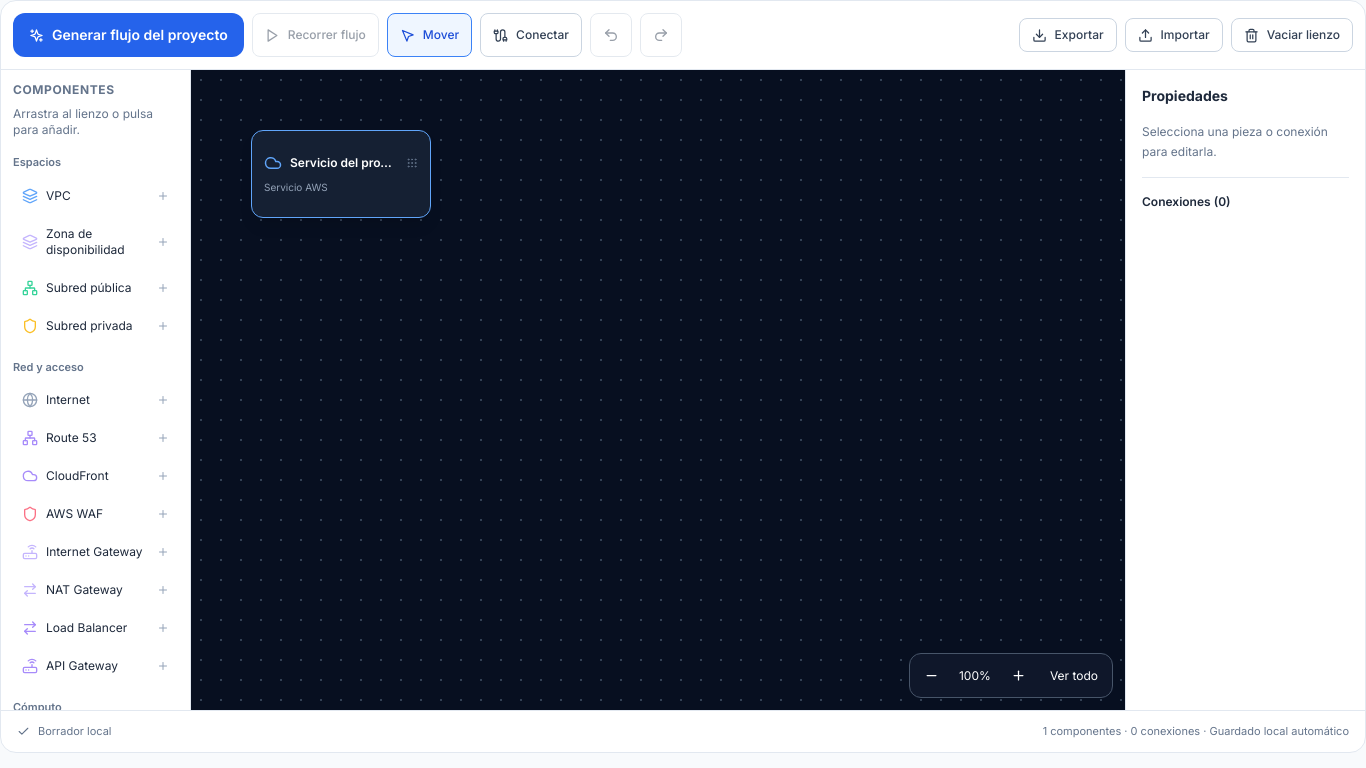
Test: botones del flujo › conserva el lienzo cuando falla Gemini y muestra el error
The image size is (1366, 768).
Click the button "Generar flujo del proyecto" at (128, 35), box [13,13,244,57]
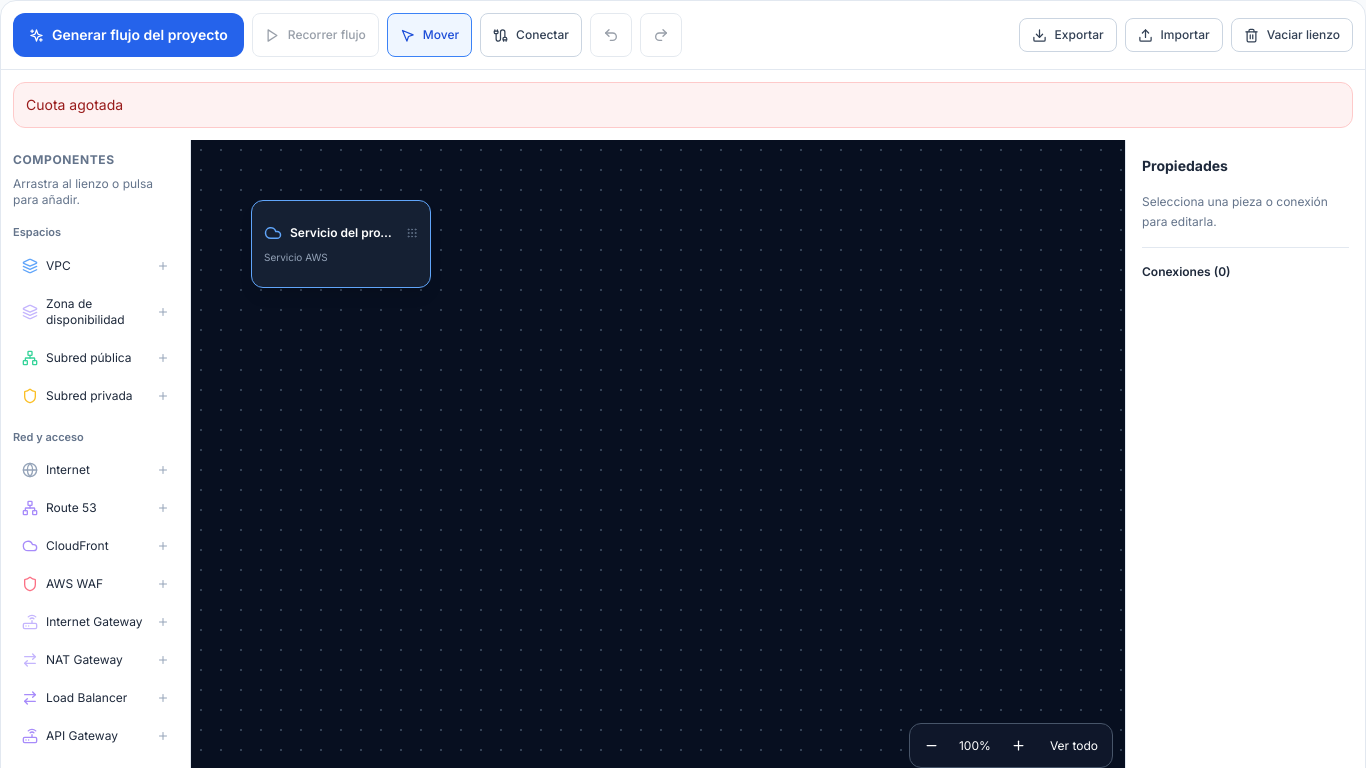
Check: the button with aria-label "Seleccionar Servicio del proyecto" is shown, box [251,200,431,288]
Check: the message reads "Cuota agotada", box [26,96,123,113]
